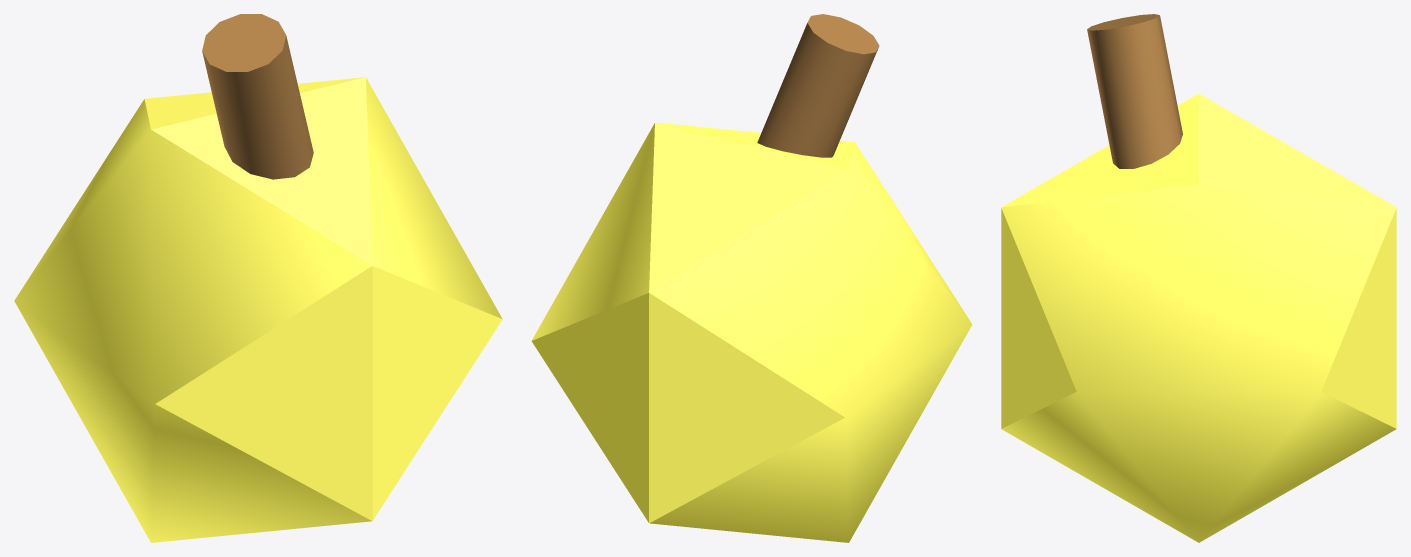
Rendered from basic-lemon.gltf.
3 views of the same model, side by side, from view 1: azimuth 30°, elevation 25°; view 2: azimuth 150°, elevation 25°; view 3: azimuth 270°, elevation 25° (orthographic). The views are drawn at different scales.
Parts seen in each view (by area): view 1: basic_lemon-yellow, basic_lemon-body; view 2: basic_lemon-yellow, basic_lemon-body; view 3: basic_lemon-yellow, basic_lemon-body.
Part boxes in pixels (x1,y1,x2,y2): basic_lemon-yellow: (14, 77, 502, 542); basic_lemon-body: (202, 14, 313, 179); basic_lemon-yellow: (531, 122, 972, 542); basic_lemon-body: (757, 14, 879, 157); basic_lemon-yellow: (1001, 94, 1396, 542); basic_lemon-body: (1087, 14, 1182, 168).
Bounding box in the file's own units: 0.2897 × 0.4249 × 0.3292.
